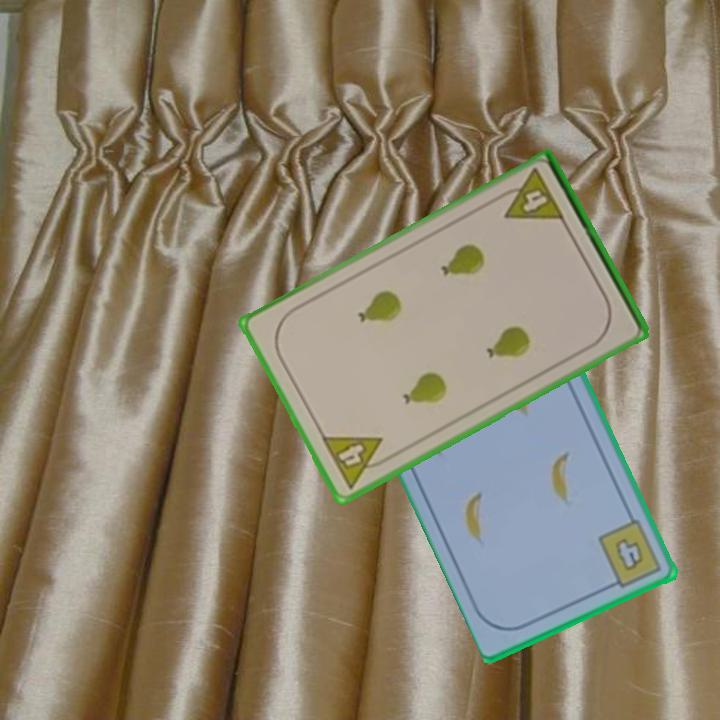4b: (594, 516, 665, 592)
4p: (317, 432, 395, 492), (492, 165, 568, 225)
